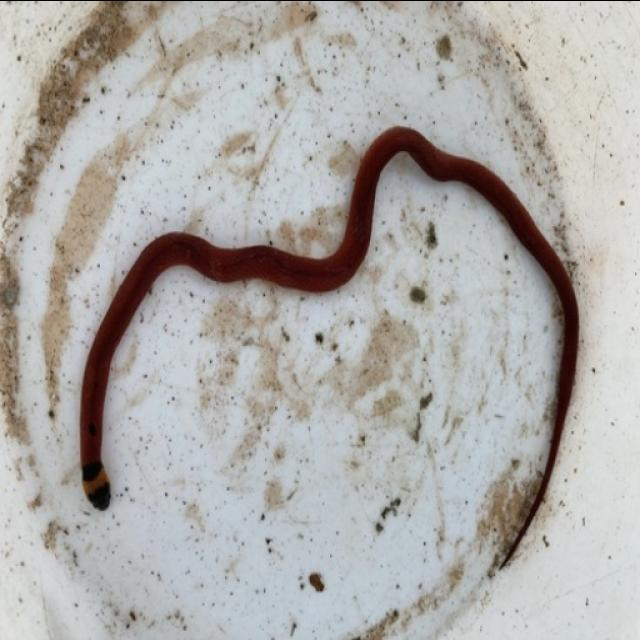snake: (67, 118, 583, 538)
